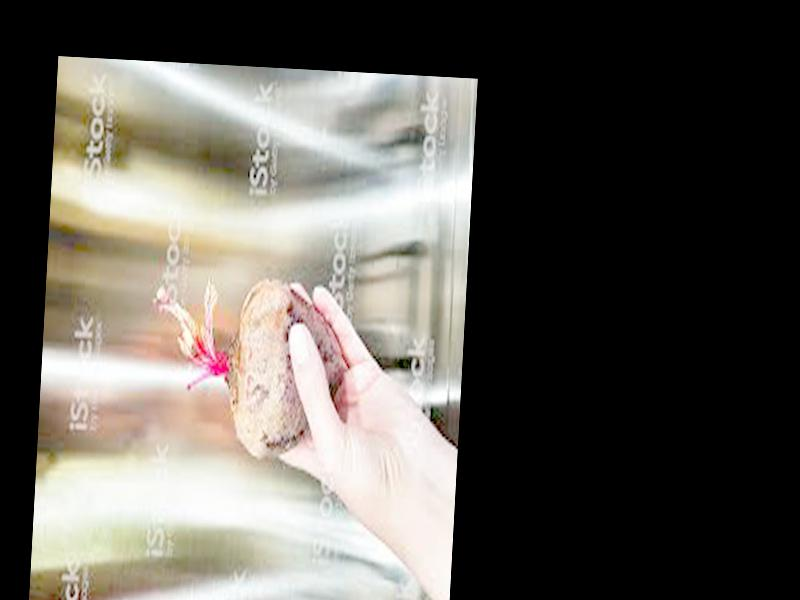Beet: (150, 272, 349, 460)
